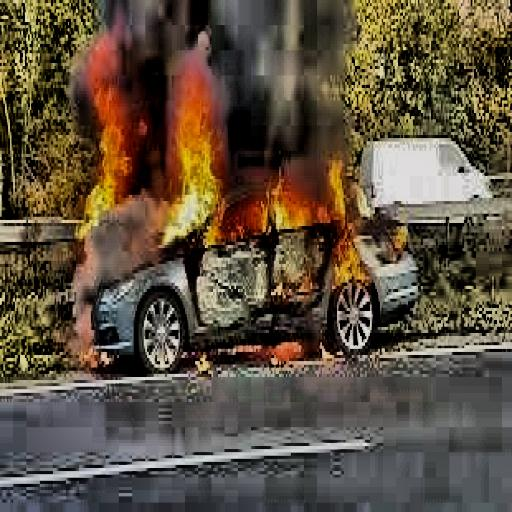fire: (68, 22, 226, 242), (225, 141, 370, 292)
